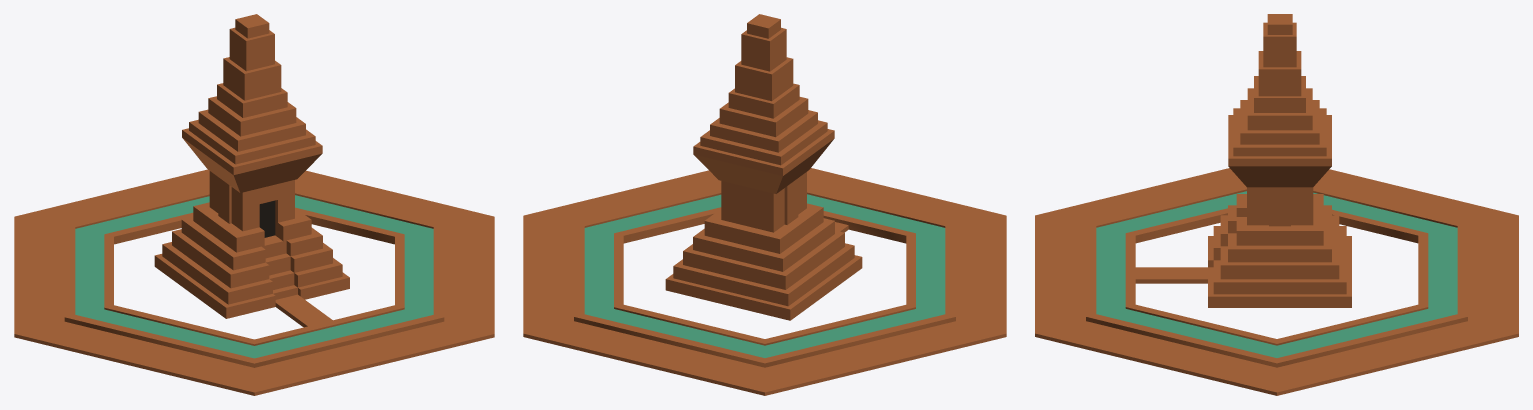
File: MJ_Building_Temple.fbx
3 renders of one model, left to right at view 1: azimuth 30°, elevation 25°; view 2: azimuth 150°, elevation 25°; view 3: azimuth 270°, elevation 25°, orthographic.
Visible parts, largest first — view 1: Model; view 2: Model; view 3: Model.
Part boxes in pixels (x1,y1,x2,y2): Model: (14, 14, 494, 395); Model: (523, 14, 1006, 395); Model: (1035, 14, 1518, 395).
Size of the model in its own units: 5.82 by 2.97 by 5.04.
